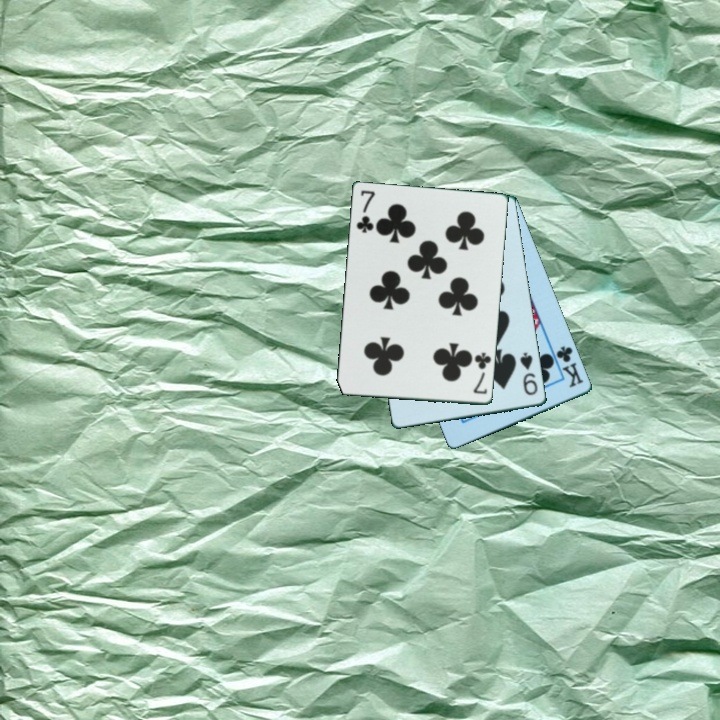7c: (353, 187, 377, 236), (470, 349, 494, 397)
9s: (517, 349, 541, 398)
Kc: (553, 342, 587, 391)
